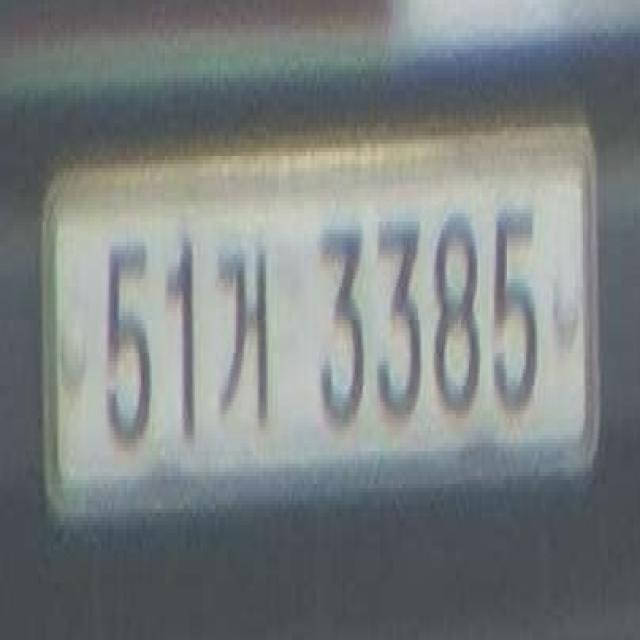1: (160, 216, 206, 454)
3: (316, 209, 369, 431), (377, 206, 425, 431)
5: (488, 182, 556, 424), (95, 222, 158, 456)
8: (431, 195, 482, 429)
geo: (210, 213, 278, 440)
license_plate: (25, 86, 616, 540)
